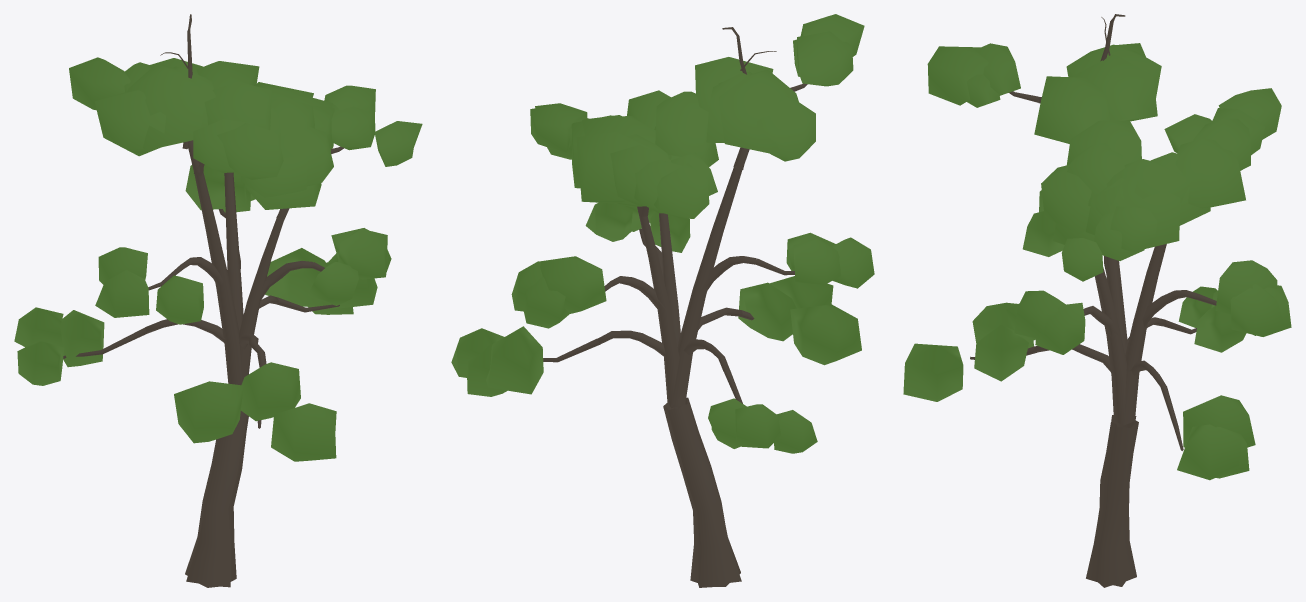
The model's file is Blender_ChestnutOak_2_Far.glb.
3 renders of one model, left to right at view 1: azimuth 30°, elevation 25°; view 2: azimuth 150°, elevation 25°; view 3: azimuth 270°, elevation 25°, orthographic.
Visible parts, largest first — view 1: Blender_ChestnutOak_2_Far; view 2: Blender_ChestnutOak_2_Far; view 3: Blender_ChestnutOak_2_Far.
Part boxes in pixels (x1,y1,x2,y2): Blender_ChestnutOak_2_Far: (14,14,422,587); Blender_ChestnutOak_2_Far: (451,14,874,587); Blender_ChestnutOak_2_Far: (903,14,1291,587).
Bounding box in the file's own units: 12.64 × 19.12 × 12.1.
